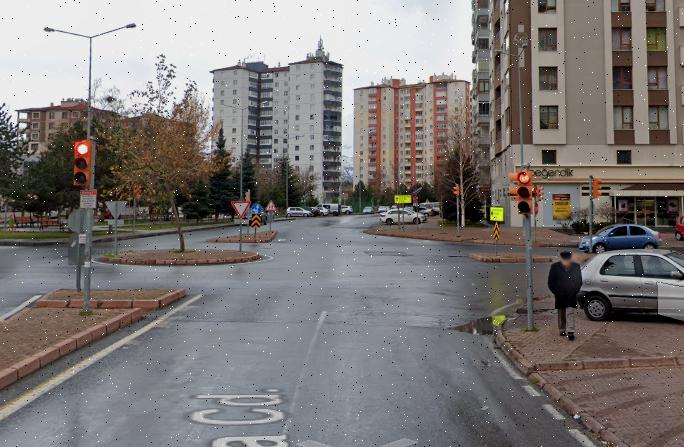redlight: (72, 140, 92, 186), (516, 168, 535, 214)
